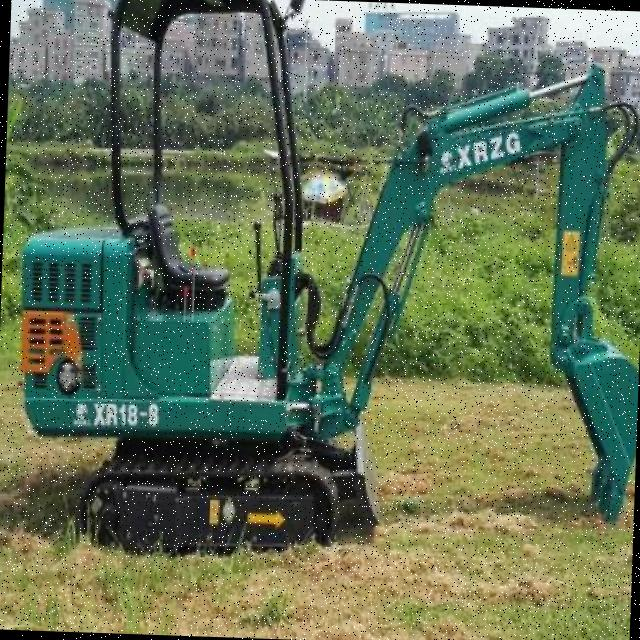Excavator: (12, 0, 640, 573)
